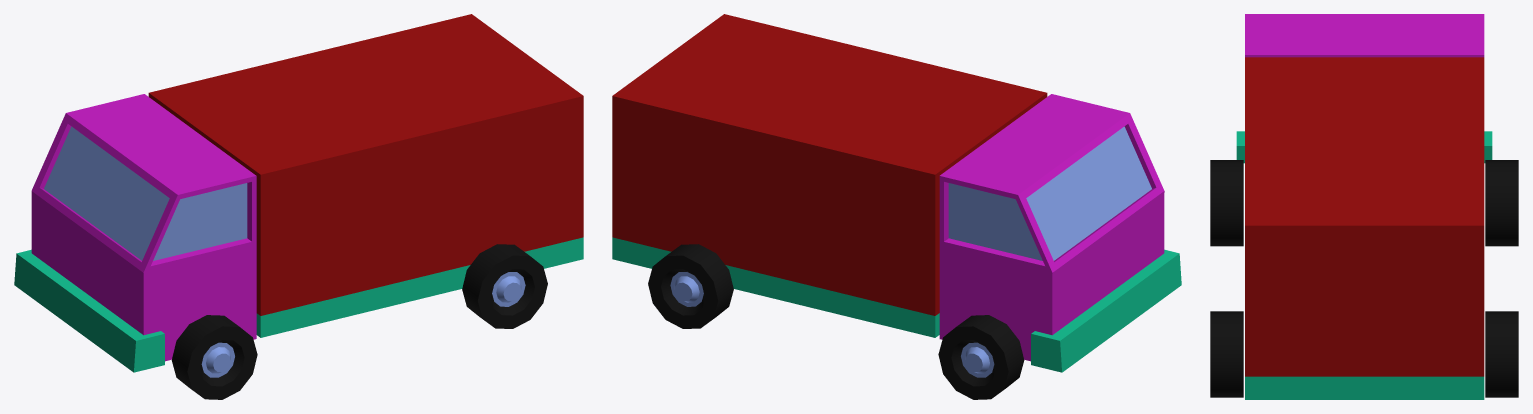
Rendered from OToGiaoHang.FBX.
3 renders of one model, left to right at view 1: azimuth 30°, elevation 25°; view 2: azimuth 150°, elevation 25°; view 3: azimuth 270°, elevation 25°, orthographic. The views are drawn at different scales.
Parts seen in each view (by area): view 1: Box213, OToGiaoHang, Box212, Cylinder046, Cylinder048; view 2: Box213, OToGiaoHang, Box212, Cylinder046, Cylinder048; view 3: Box213, OToGiaoHang, Cylinder046, Cylinder048, Box212.
Boxes of the visible parts, x1=… form: Box213: x1=148, y1=14, x2=583, y2=315; OToGiaoHang: x1=14, y1=94, x2=525, y2=377; Box212: x1=256, y1=237, x2=583, y2=337; Cylinder046: x1=171, y1=315, x2=257, y2=399; Cylinder048: x1=462, y1=244, x2=547, y2=328; Box213: x1=612, y1=14, x2=1047, y2=315; OToGiaoHang: x1=670, y1=94, x2=1181, y2=377; Box212: x1=612, y1=237, x2=939, y2=337; Cylinder046: x1=938, y1=315, x2=1024, y2=399; Cylinder048: x1=648, y1=244, x2=733, y2=328; Box213: x1=1245, y1=57, x2=1484, y2=376; OToGiaoHang: x1=1236, y1=14, x2=1492, y2=163; Cylinder046: x1=1210, y1=160, x2=1518, y2=246; Cylinder048: x1=1210, y1=311, x2=1518, y2=397; Box212: x1=1245, y1=376, x2=1484, y2=399.
Bounding box in the file's own units: 5.55 × 2.34 × 3.06.
